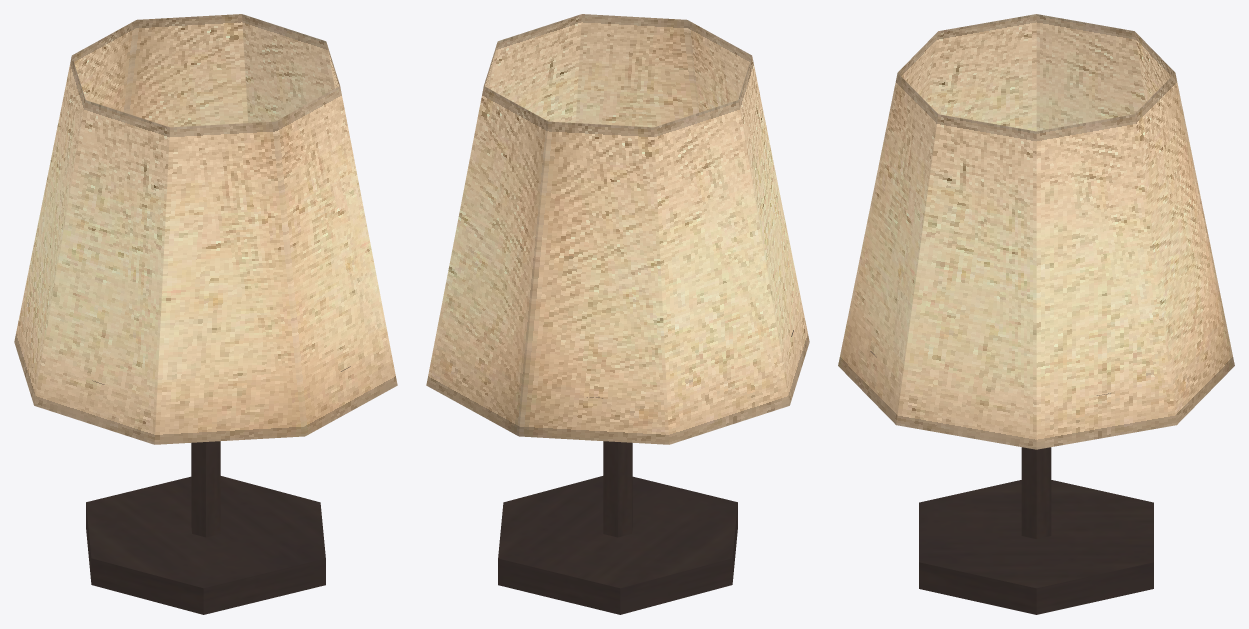
3 views of the same model, side by side, from view 1: azimuth 30°, elevation 25°; view 2: azimuth 150°, elevation 25°; view 3: azimuth 270°, elevation 25° (orthographic).
Parts seen in each view (by area): view 1: Lamp; view 2: Lamp; view 3: Lamp.
Boxes of the visible parts, x1,y1,x2,y2 form: Lamp: (14,14,397,614); Lamp: (426,14,809,614); Lamp: (838,14,1234,614).
Bounding box in the file's own units: 0.27 × 0.365 × 0.27.
Materials: 2 (2 with a texture image).
